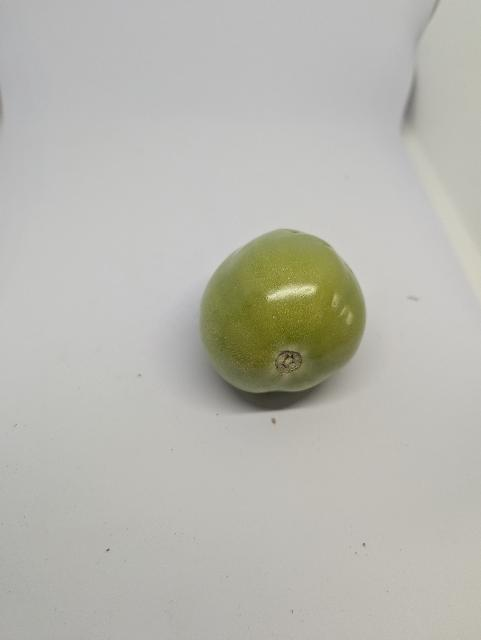green: (192, 216, 382, 406)
